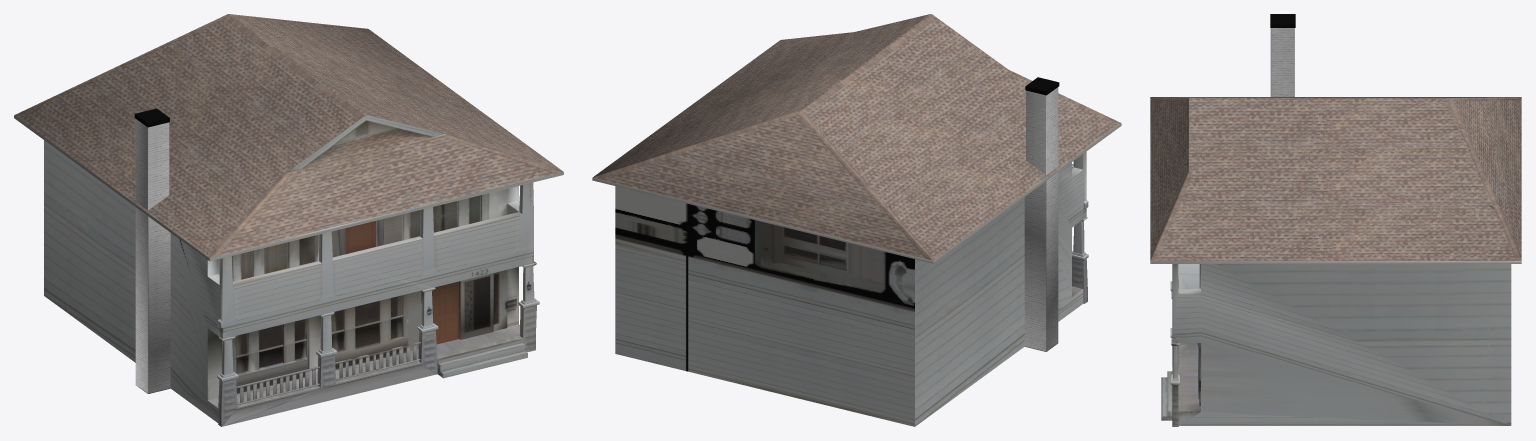
The model's file is majaTante.fbx.
The picture shows the model from 3 angles, left to right: view 1: azimuth 30°, elevation 25°; view 2: azimuth 150°, elevation 25°; view 3: azimuth 270°, elevation 25°; orthographic projection. The views are drawn at different scales.
Visible parts, largest first — view 1: BG Buildings - Classic Two Story House; view 2: BG Buildings - Classic Two Story House; view 3: BG Buildings - Classic Two Story House.
Part boxes in pixels (x1,y1,x2,y2): BG Buildings - Classic Two Story House: (14,14,563,426); BG Buildings - Classic Two Story House: (592,14,1121,426); BG Buildings - Classic Two Story House: (1150,14,1521,426).
Bounding box in the file's own units: 9.1 × 6.65 × 8.71.
